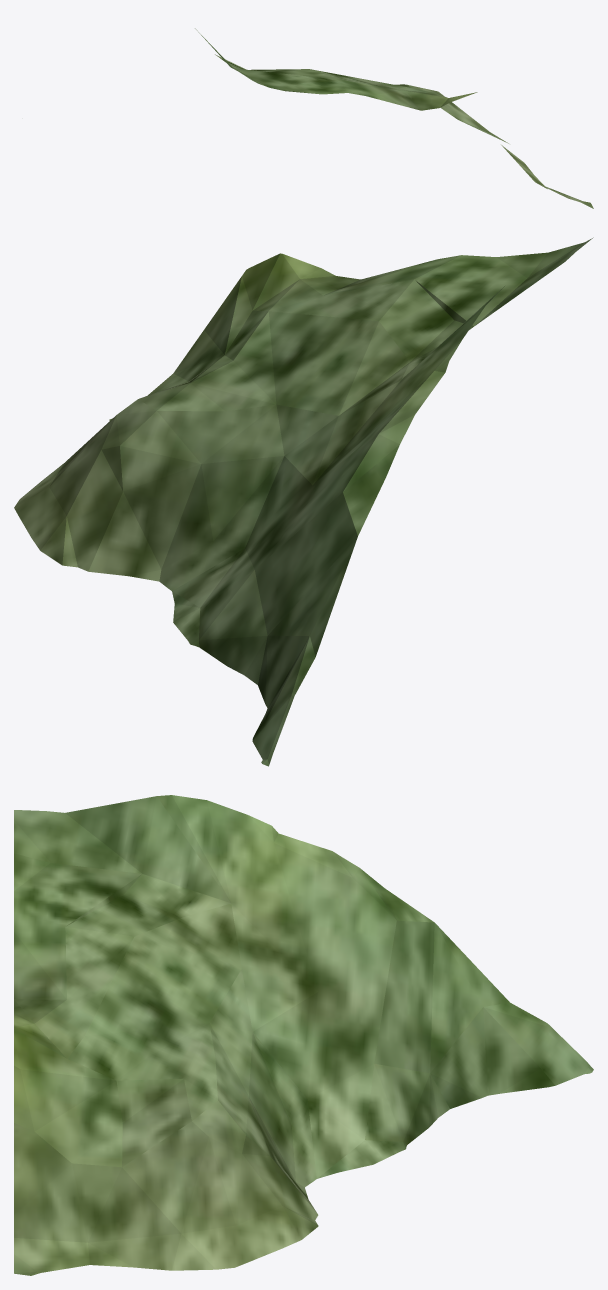
3 views of the same model, one above another, from view 1: azimuth 30°, elevation 25°; view 2: azimuth 150°, elevation 25°; view 3: azimuth 270°, elevation 25° (orthographic). The views are drawn at different scales.
Size of the model in its own units: 1.42 by 0.8814 by 1.69.
1 material, 1 textured.
